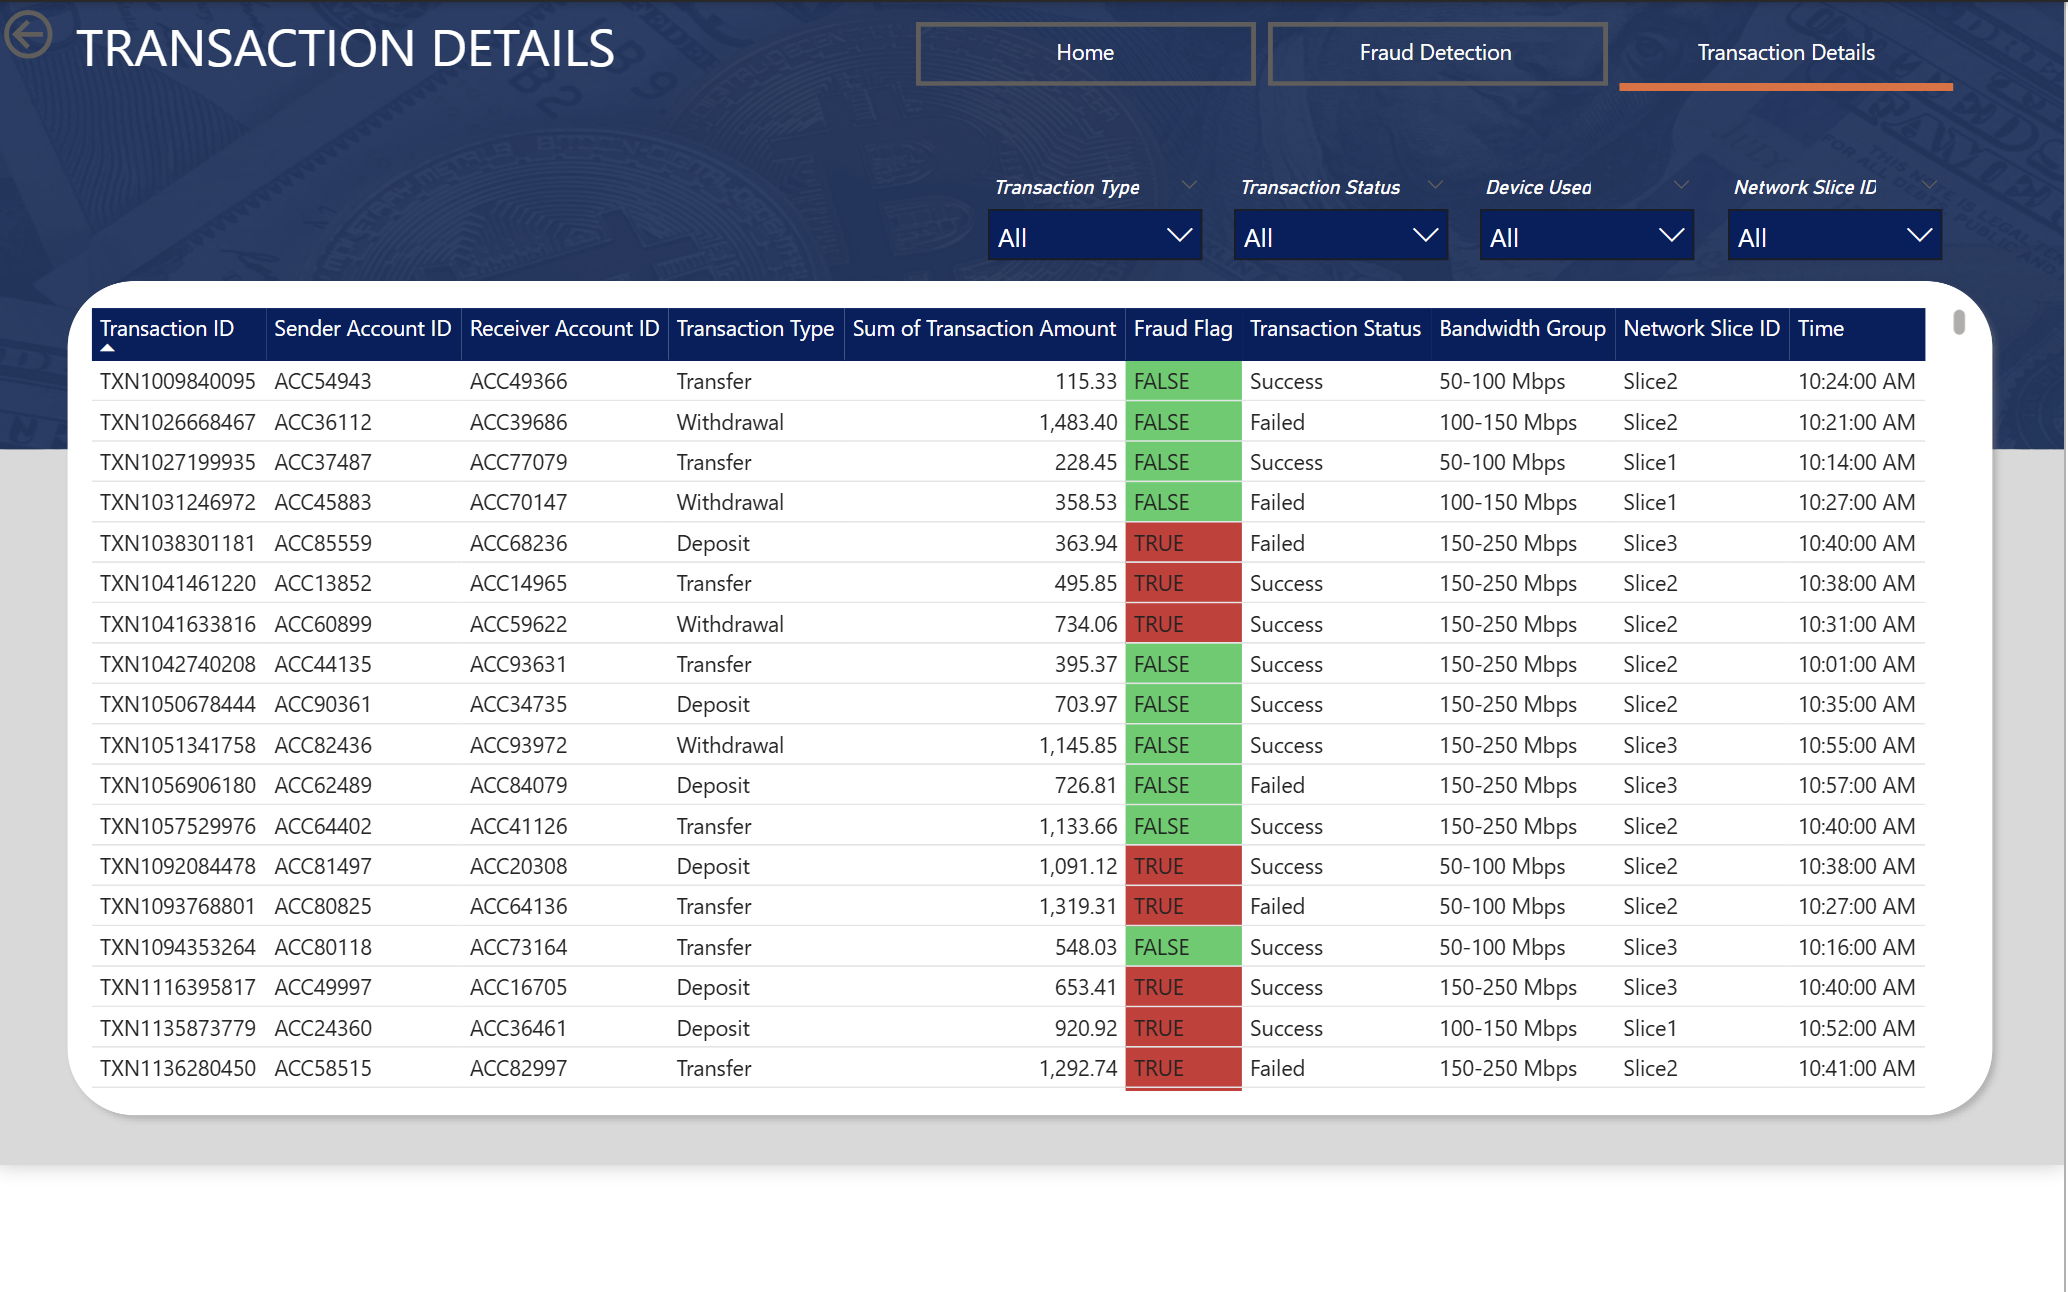

This screenshot's page, from the dashboard's own definition file:
{"tool":"powerbi","page":{"name":"Transaction Details","canvas":[1280,720],"ordinal":2},"visuals":[{"type":"tableEx","fields":{"Values":["bank transaction_data.Transaction ID","bank transaction_data.Sender Account ID","bank transaction_data.Receiver Account ID","bank transaction_data.Transaction Type","Sum(bank transaction_data.Transaction Amount)","bank transaction_data.Fraud Flag","bank transaction_data.Transaction Status","bank transaction_data.Bandwidth Group","bank transaction_data.Network Slice ID","bank transaction_data.Time"]},"box":[53.8,184.2,1171.3,494.2],"z":0},{"type":"slicer","fields":{"Values":["bank transaction_data.Network Slice ID"]},"box":[1061.6,102.6,152.6,60.5],"z":1000},{"type":"slicer","fields":{"Values":["bank transaction_data.Transaction Type"]},"box":[603.8,102.6,152.6,60.5],"z":2000},{"type":"slicer","fields":{"Values":["bank transaction_data.Transaction Status"]},"box":[756.4,102.6,152.6,60.5],"z":3000},{"type":"slicer","fields":{"Values":["bank transaction_data.Device Used"]},"box":[909,102.6,152.6,60.5],"z":4000},{"type":"textbox","box":[44.7,0,471,56.6],"z":5000},{"type":"actionButton","box":[0,0,100,40],"z":6000},{"type":"pageNavigator","box":[570.9,6.6,643.3,50],"z":7000},{"type":"actionButton","box":[569.4,12.4,210.4,39.6],"z":7001},{"type":"actionButton","box":[787.3,12.4,210.4,39.6],"z":7002}]}

Visuals, with their boxes on the page's 1280x720 design canvas (x1, y1, x2, y2). These are canvas units, not pixel positions in the 2068x1292 screenshot, which may show the page scaled, cropped or inside an application window:
tableEx - bank transaction_data.Transaction ID x bank transaction_data.Sender Account ID: (54,184,1225,678)
slicer - bank transaction_data.Network Slice ID: (1062,103,1214,163)
slicer - bank transaction_data.Transaction Type: (604,103,756,163)
slicer - bank transaction_data.Transaction Status: (756,103,909,163)
slicer - bank transaction_data.Device Used: (909,103,1062,163)
textbox: (45,0,516,57)
actionButton: (0,0,100,40)
pageNavigator: (571,7,1214,57)
actionButton: (569,12,780,52)
actionButton: (787,12,998,52)
